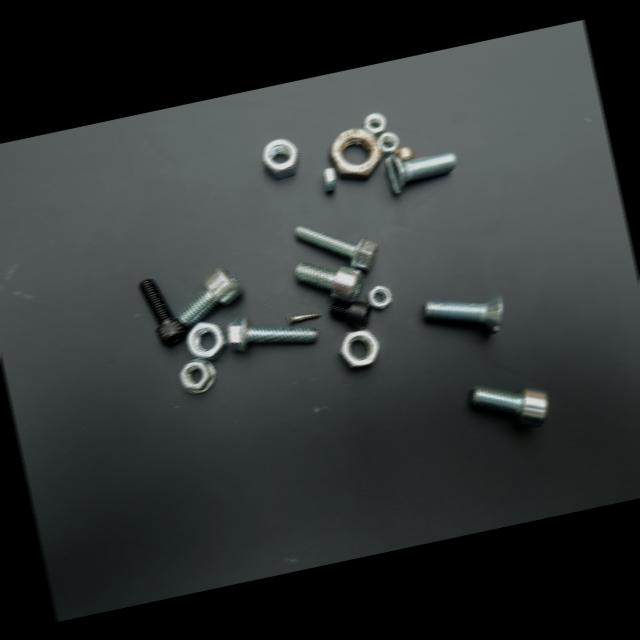bolt: (178, 266, 243, 326), (294, 225, 378, 271), (469, 385, 548, 426), (139, 278, 187, 345), (227, 316, 317, 351), (423, 295, 503, 333), (384, 151, 456, 193), (294, 262, 363, 302), (329, 300, 371, 328), (287, 312, 321, 325)
nuts: (328, 128, 383, 179), (186, 321, 229, 360), (339, 329, 379, 367), (262, 138, 299, 179), (179, 357, 216, 393), (367, 285, 391, 309), (375, 131, 399, 154), (364, 112, 386, 134), (322, 167, 336, 193), (394, 145, 413, 161)
